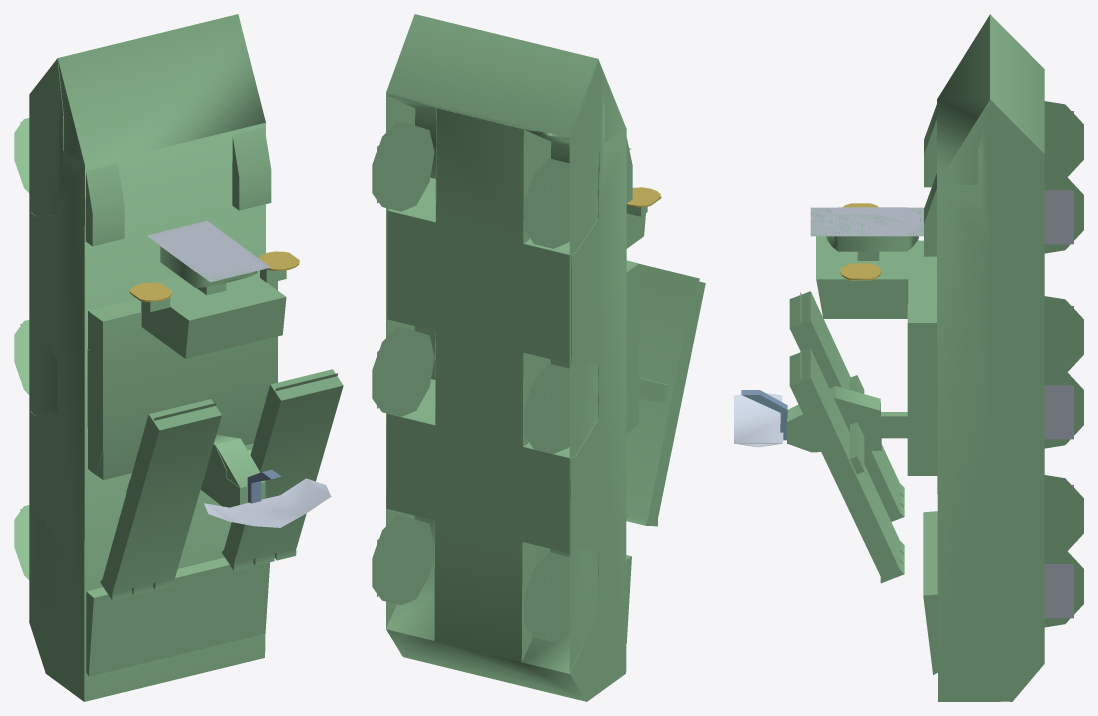
3 views of the same model, side by side, from view 1: azimuth 30°, elevation 25°; view 2: azimuth 150°, elevation 25°; view 3: azimuth 270°, elevation 25° (orthographic). The views are drawn at different scales.
Visible parts, largest first — view 1: db_sam8_newLOD_LOD child0_sides_p13721_Geometry_0.001, db_sam8_newLOD_LOD child0_o2639_p14962_Geometry_0.001, db_sam8_newLOD_LOD child0_top_pl1_Geometry_0.001, db_sam8_newLOD_LOD child0_o2618_p14758_Geometry_0.001, db_sam8_newLOD_LOD child0_tubes_p13680_Geometry_0.001, db_sam8_newLOD_LOD child0_o2619_p14759_Geometry_0.001, db_sam8_newLOD_LOD child0_rearbox_p13886_Geometry_0.001, db_sam8_newLOD_LOD child0_diskbas_p13945_Geometry_0.001, db_sam8_newLOD_LOD child0_o2620_p14764_Geometry_0.001, db_sam8_newLOD_LOD child0_o2636_p14957_Geometry_0.001, db_sam8_newLOD_LOD child0_o2642_p14969_Geometry_0.001, db_sam8_newLOD_LOD child0_tire_p14434_Geometry_0.001 (+14 smaller); view 2: db_sam8_newLOD_LOD child0_bottom_p13758_Geometry_0.001, db_sam8_newLOD_LOD child0_sides_p13721_Geometry_0.001, db_sam8_newLOD_LOD child0_tire_p14434_Geometry_0.001, db_sam8_newLOD_LOD child0_o2637_p14959_Geometry_0.001, db_sam8_newLOD_LOD child0_o2623_p14821_Geometry_0.001, db_sam8_newLOD_LOD child0_o2636_p14957_Geometry_0.001, db_sam8_newLOD_LOD child0_tubes_p13680_Geometry_0.001, db_sam8_newLOD_LOD child0_o2620_p14764_Geometry_0.001, db_sam8_newLOD_LOD child0_base_p13668_Geometry_0.001, db_sam8_newLOD_LOD child0_diskbas_p13945_Geometry_0.001, db_sam8_newLOD_LOD child0_radarba_p13697_Geometry_0.001; view 3: db_sam8_newLOD_LOD child0_o2636_p14957_Geometry_0.001, db_sam8_newLOD_LOD child0_o2622_p14785_Geometry_0.001, db_sam8_newLOD_LOD child0_tire_p14434_Geometry_0.001, db_sam8_newLOD_LOD child0_o2620_p14764_Geometry_0.001, db_sam8_newLOD_LOD child0_o2619_p14759_Geometry_0.001, db_sam8_newLOD_LOD child0_o2640_p14963_Geometry_0.001, db_sam8_newLOD_LOD child0_o2637_p14959_Geometry_0.001, db_sam8_newLOD_LOD child0_o2639_p14962_Geometry_0.001, db_sam8_newLOD_LOD child0_o2630_p14907_Geometry_0.001, db_sam8_newLOD_LOD child0_tubes_p13680_Geometry_0.001, db_sam8_newLOD_LOD child0_o2621_p14776_Geometry_0.001, db_sam8_newLOD_LOD child0_diskbas_p13945_Geometry_0.001 (+12 smaller).
Part boxes in pixels (x1,y1,x2,y2): db_sam8_newLOD_LOD child0_sides_p13721_Geometry_0.001: [29, 58, 84, 695]; db_sam8_newLOD_LOD child0_o2639_p14962_Geometry_0.001: [57, 14, 265, 166]; db_sam8_newLOD_LOD child0_top_pl1_Geometry_0.001: [84, 127, 271, 701]; db_sam8_newLOD_LOD child0_o2618_p14758_Geometry_0.001: [85, 122, 265, 693]; db_sam8_newLOD_LOD child0_tubes_p13680_Geometry_0.001: [100, 385, 342, 600]; db_sam8_newLOD_LOD child0_o2619_p14759_Geometry_0.001: [88, 270, 277, 479]; db_sam8_newLOD_LOD child0_rearbox_p13886_Geometry_0.001: [86, 557, 269, 676]; db_sam8_newLOD_LOD child0_diskbas_p13945_Geometry_0.001: [141, 269, 285, 358]; db_sam8_newLOD_LOD child0_o2620_p14764_Geometry_0.001: [113, 385, 343, 592]; db_sam8_newLOD_LOD child0_o2636_p14957_Geometry_0.001: [29, 60, 84, 620]; db_sam8_newLOD_LOD child0_o2642_p14969_Geometry_0.001: [147, 220, 270, 282]; db_sam8_newLOD_LOD child0_tire_p14434_Geometry_0.001: [14, 118, 29, 580]; db_sam8_newLOD_LOD child0_bottom_p13758_Geometry_0.001: [386, 59, 599, 701]; db_sam8_newLOD_LOD child0_sides_p13721_Geometry_0.001: [570, 59, 626, 701]; db_sam8_newLOD_LOD child0_tire_p14434_Geometry_0.001: [372, 121, 569, 642]; db_sam8_newLOD_LOD child0_o2637_p14959_Geometry_0.001: [386, 14, 597, 699]; db_sam8_newLOD_LOD child0_o2623_p14821_Geometry_0.001: [386, 93, 586, 701]; db_sam8_newLOD_LOD child0_o2636_p14957_Geometry_0.001: [386, 61, 625, 672]; db_sam8_newLOD_LOD child0_tubes_p13680_Geometry_0.001: [626, 269, 705, 526]; db_sam8_newLOD_LOD child0_o2620_p14764_Geometry_0.001: [626, 272, 693, 518]; db_sam8_newLOD_LOD child0_base_p13668_Geometry_0.001: [626, 263, 638, 433]; db_sam8_newLOD_LOD child0_diskbas_p13945_Geometry_0.001: [626, 206, 647, 248]; db_sam8_newLOD_LOD child0_radarba_p13697_Geometry_0.001: [638, 378, 668, 403]; db_sam8_newLOD_LOD child0_o2636_p14957_Geometry_0.001: [937, 100, 1044, 701]; db_sam8_newLOD_LOD child0_o2622_p14785_Geometry_0.001: [937, 99, 1044, 701]; db_sam8_newLOD_LOD child0_tire_p14434_Geometry_0.001: [1044, 101, 1083, 627]; db_sam8_newLOD_LOD child0_o2620_p14764_Geometry_0.001: [790, 295, 899, 576]; db_sam8_newLOD_LOD child0_o2619_p14759_Geometry_0.001: [907, 240, 937, 475]; db_sam8_newLOD_LOD child0_o2640_p14963_Geometry_0.001: [1044, 111, 1073, 618]; db_sam8_newLOD_LOD child0_o2637_p14959_Geometry_0.001: [990, 14, 1044, 153]; db_sam8_newLOD_LOD child0_o2639_p14962_Geometry_0.001: [937, 15, 989, 183]; db_sam8_newLOD_LOD child0_o2630_p14907_Geometry_0.001: [816, 251, 908, 318]; db_sam8_newLOD_LOD child0_tubes_p13680_Geometry_0.001: [810, 291, 904, 583]; db_sam8_newLOD_LOD child0_o2621_p14776_Geometry_0.001: [787, 386, 881, 450]; db_sam8_newLOD_LOD child0_diskbas_p13945_Geometry_0.001: [816, 236, 908, 278].
Bounding box in the file's own units: 2.82 × 9.14 × 4.81.
